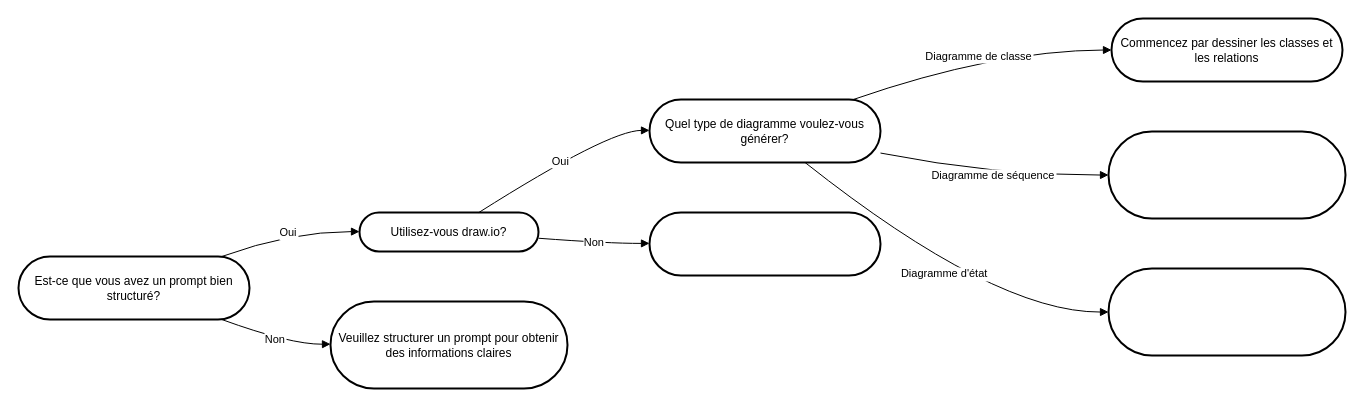
This 1363x406 diagram has some shape labels left out. Here are the shapes that lost their labels. From the top down, the box of each, then its label:
(1107, 130, 1346, 219): Commencez par identifier les interactions et les messages entre les acteurs
(648, 211, 881, 276): Veuillez installer draw.io en premier
(1107, 267, 1346, 356): Identifiez les différents états du système et les transitions entre eux
